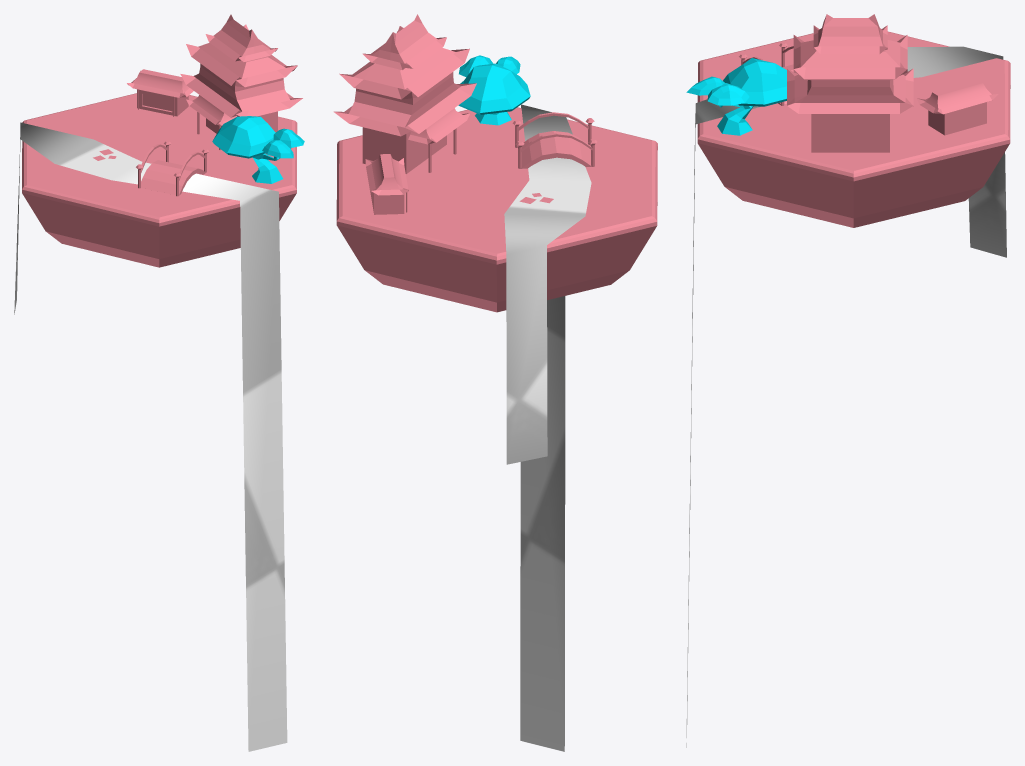
File: Asset_Biome_China.fbx
The picture shows the model from 3 angles, left to right: view 1: azimuth 30°, elevation 25°; view 2: azimuth 150°, elevation 25°; view 3: azimuth 270°, elevation 25°; orthographic projection. The views are drawn at different scales.
Visible parts, largest first — view 1: PolySurface_Water, Asset_Tile_China, Big_House_china, Tree_china, Hous_china, PolySurface_Bridge; view 2: Asset_Tile_China, PolySurface_Water, Big_House_china, Tree_china, PolySurface_Bridge, Hous_china; view 3: Asset_Tile_China, Big_House_china, PolySurface_Water, Tree_china, Hous_china.
Part boxes in pixels (left/top/right/bottom): PolySurface_Water: left=14, top=122, right=287, bottom=751; Asset_Tile_China: left=22, top=93, right=297, bottom=267; Big_House_china: left=180, top=14, right=302, bottom=149; Tree_china: left=212, top=116, right=304, bottom=183; Hous_china: left=127, top=69, right=193, bottom=116; PolySurface_Bridge: left=136, top=140, right=209, bottom=196; Asset_Tile_China: left=336, top=107, right=657, bottom=312; PolySurface_Water: left=504, top=104, right=591, bottom=751; Big_House_china: left=333, top=14, right=476, bottom=173; Tree_china: left=458, top=55, right=530, bottom=125; PolySurface_Bridge: left=512, top=112, right=597, bottom=168; Hous_china: left=365, top=154, right=408, bottom=214; Asset_Tile_China: left=697, top=31, right=1010, bottom=227; Big_House_china: left=787, top=14, right=913, bottom=152; PolySurface_Water: left=686, top=46, right=1006, bottom=747; Tree_china: left=686, top=58, right=786, bottom=135; Hous_china: left=916, top=79, right=998, bottom=135.
Bounding box in the file's own units: 436 × 1003 × 392.
